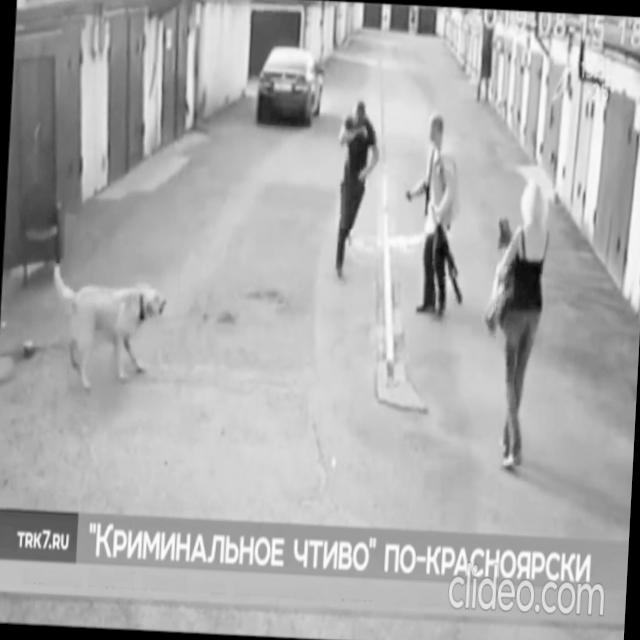gun: (422, 200, 470, 308)
person: (479, 175, 555, 470), (331, 98, 383, 283)
person with a gun: (397, 111, 474, 325)
